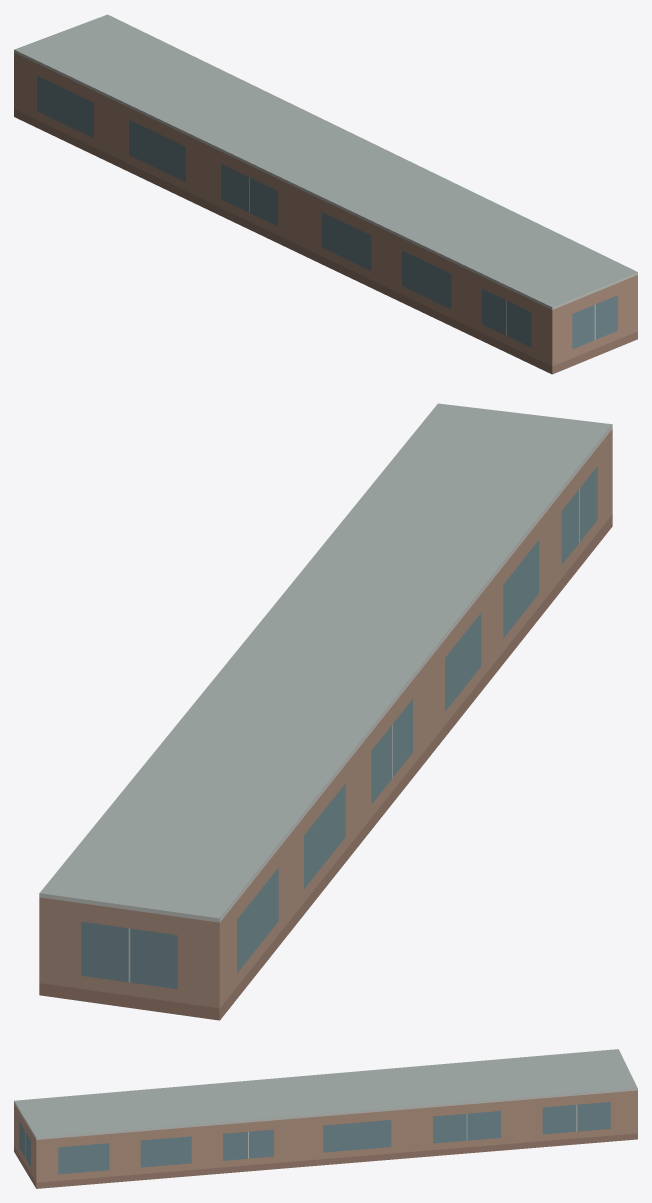
The model's file is survey-upis-32525243.glb.
3 views of the same model, one above another, from view 1: azimuth 30°, elevation 25°; view 2: azimuth 150°, elevation 25°; view 3: azimuth 270°, elevation 25° (orthographic). The views are drawn at different scales.
Visible parts, largest first — view 1: survey-upis-32525243.tmp; view 2: survey-upis-32525243.tmp; view 3: survey-upis-32525243.tmp.
Part boxes in pixels (x1,y1,x2,y2): survey-upis-32525243.tmp: (14, 14, 637, 374); survey-upis-32525243.tmp: (39, 403, 612, 1020); survey-upis-32525243.tmp: (14, 1049, 637, 1188).
Bounding box in the file's own units: 11.41 × 3.05 × 33.82.
